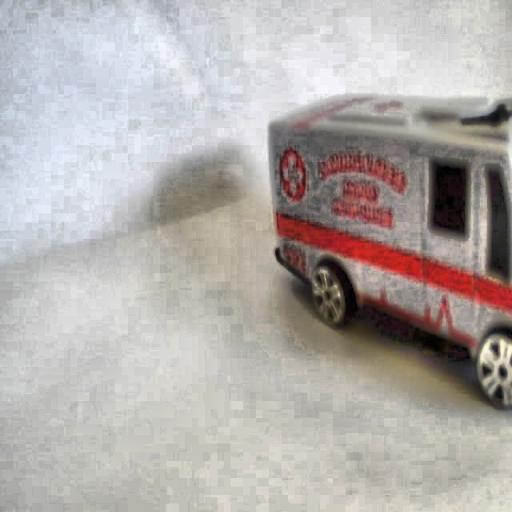ambulance: (268, 92, 511, 410)
